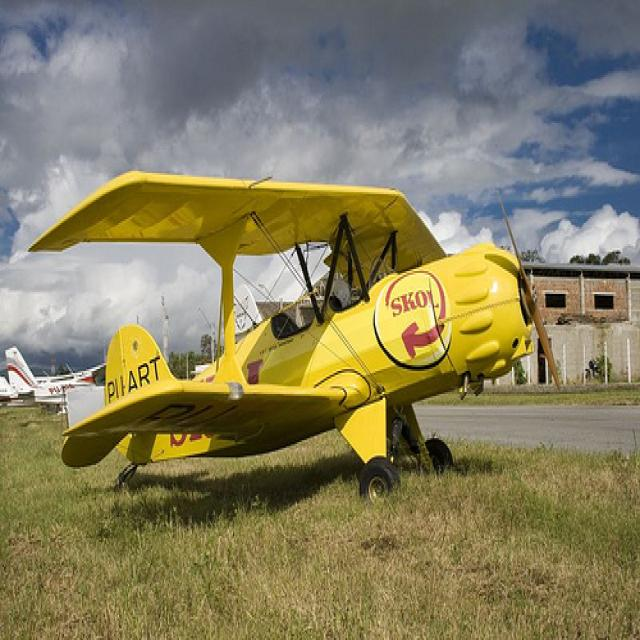aeroplane: (30, 161, 554, 509), (5, 341, 108, 409)
